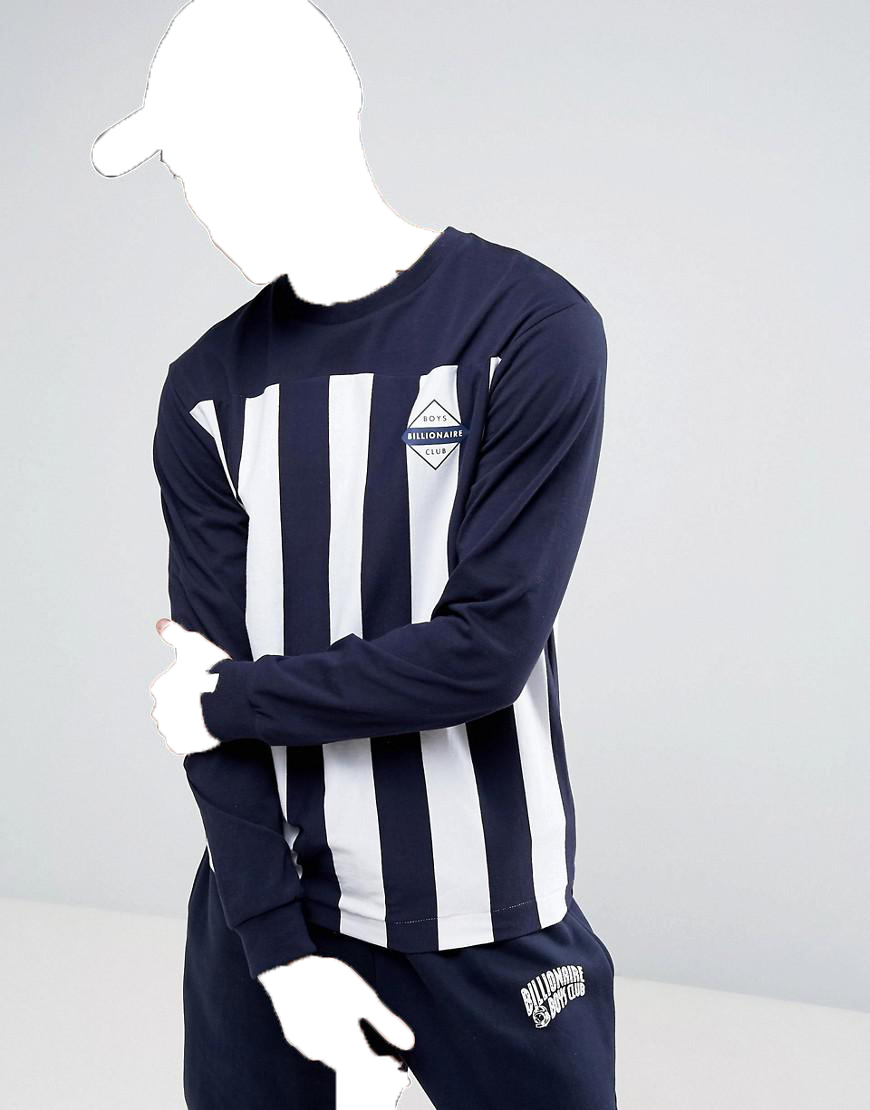teeshirt: (135, 222, 608, 986)
